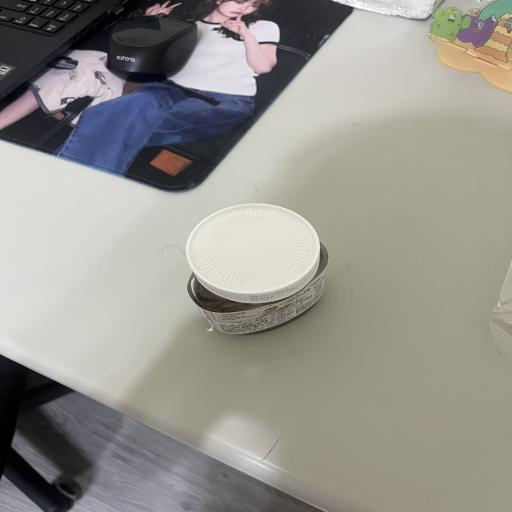chocolate_jar: (186, 203, 328, 335)
